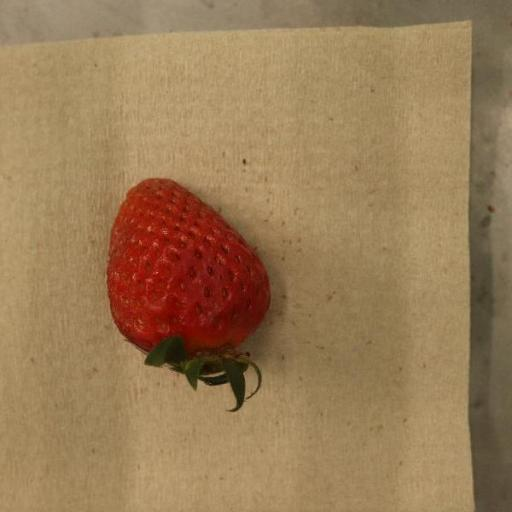Strawberry: (107, 178, 272, 413)
